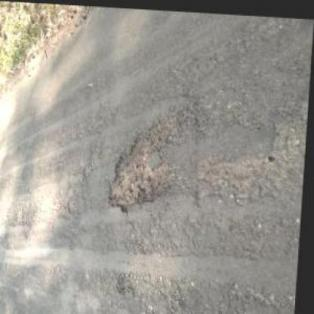Hueco: (109, 114, 179, 214), (119, 269, 142, 294)
